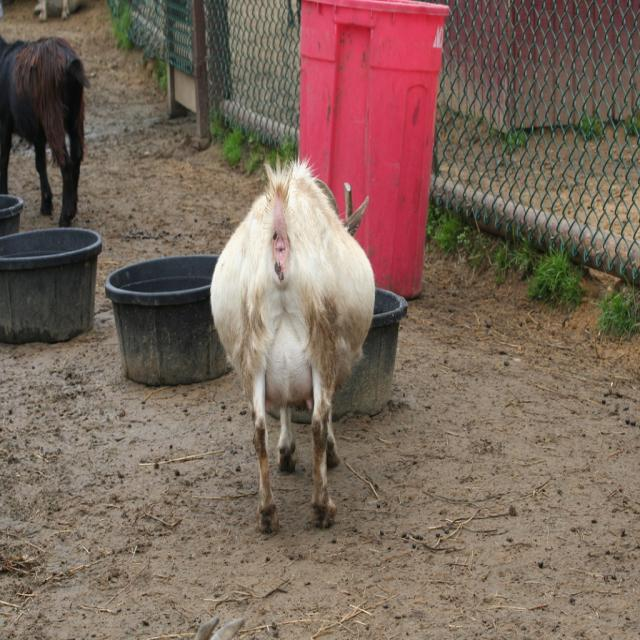Goat: (206, 160, 390, 552), (0, 31, 90, 224)
